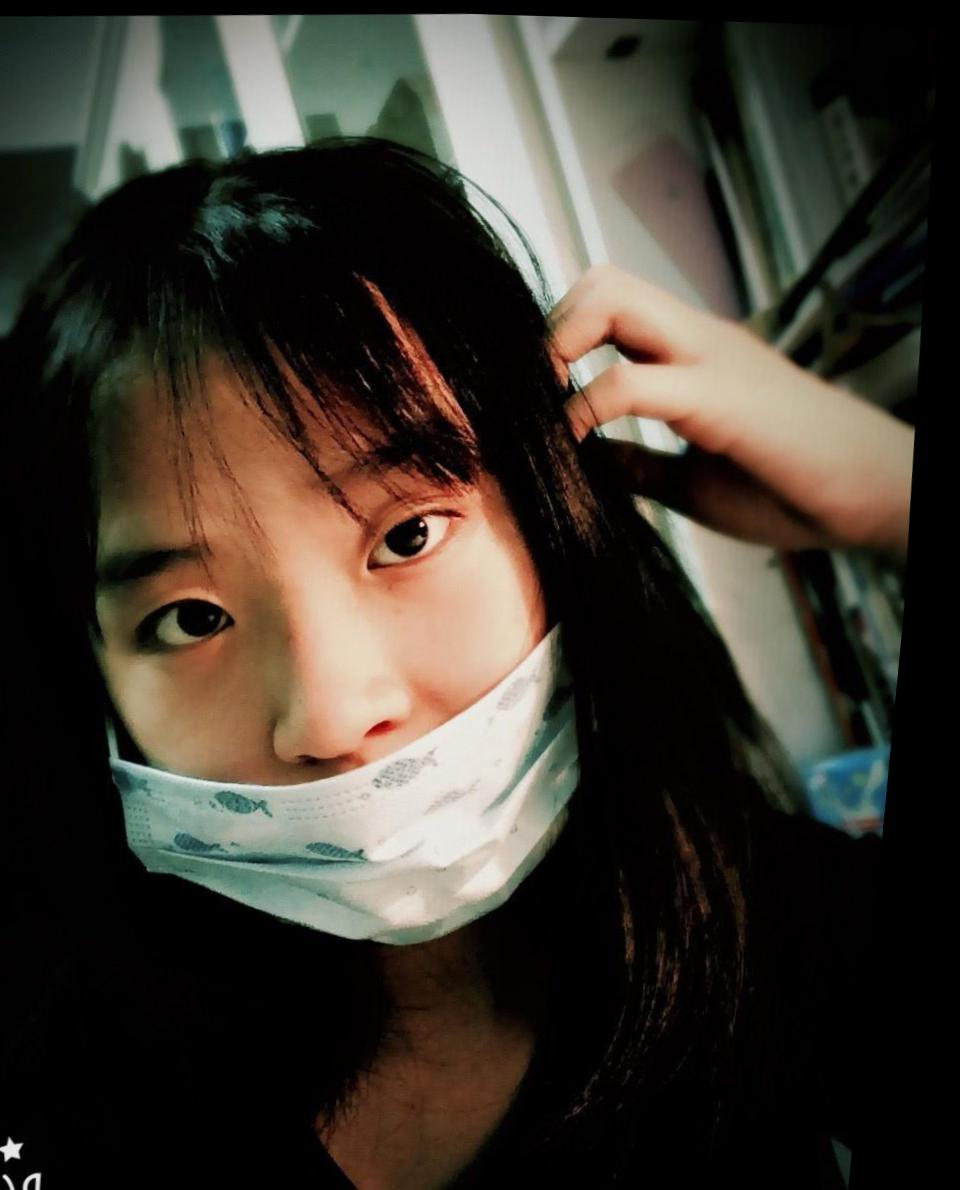WRONG: (40, 382, 644, 956)
